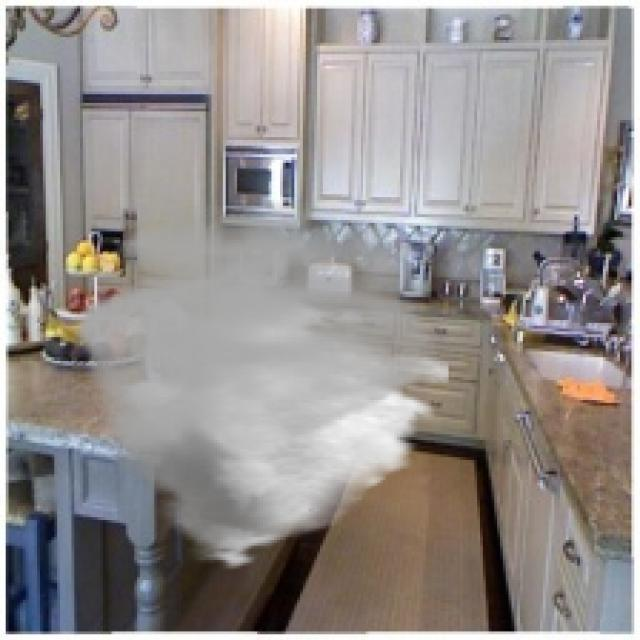Smoke: (69, 199, 448, 572)
